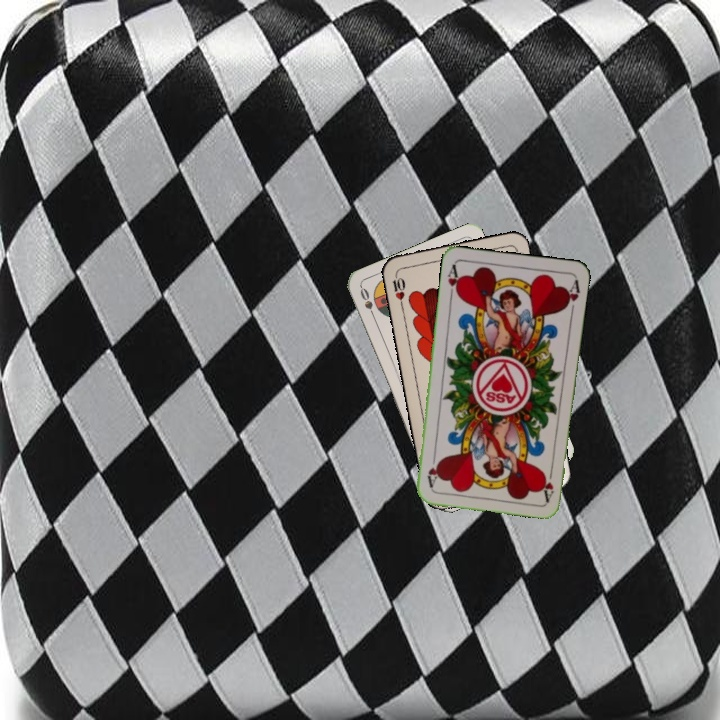H10: (388, 269, 408, 309)
HA: (443, 261, 463, 301), (539, 463, 556, 503)
SO: (356, 284, 379, 323)
